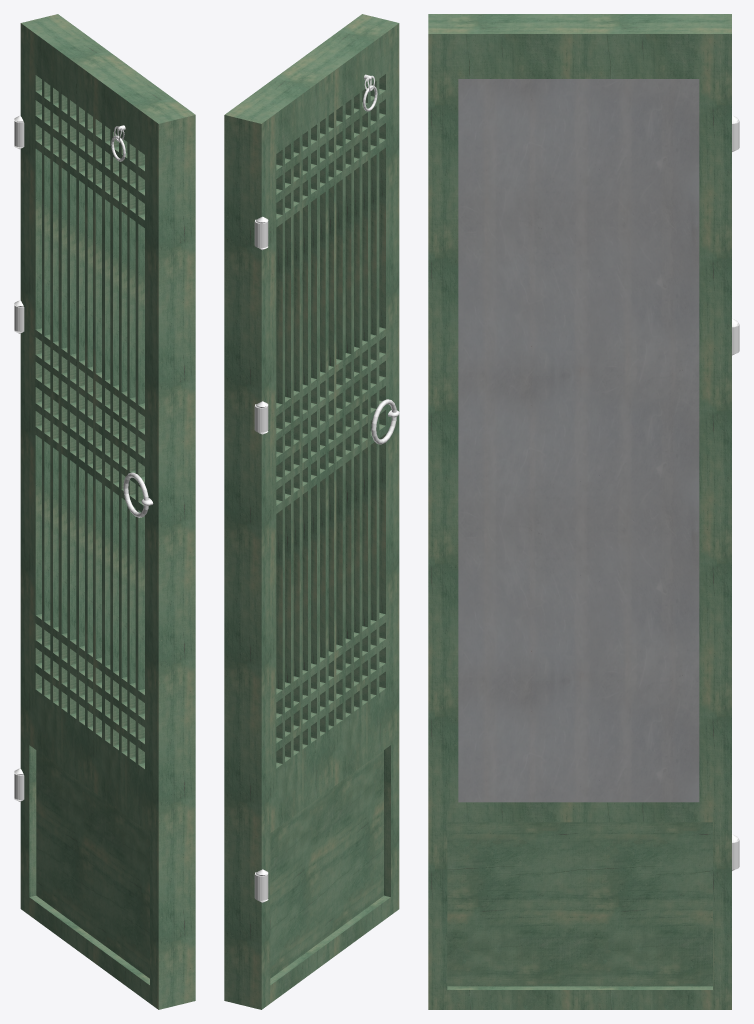
File: SM_D_Wood_3.fbx
3 views of the same model, side by side, from view 1: azimuth 30°, elevation 25°; view 2: azimuth 150°, elevation 25°; view 3: azimuth 270°, elevation 25° (orthographic). The views are drawn at different scales.
Visible parts, largest first — view 1: SM_D_Wood_3_LOD0; view 2: SM_D_Wood_3_LOD0; view 3: SM_D_Wood_3_LOD0.
Boxes of the visible parts, box(x1,y1,x2,y2) form: SM_D_Wood_3_LOD0: box(14, 14, 195, 1009); SM_D_Wood_3_LOD0: box(224, 14, 399, 1009); SM_D_Wood_3_LOD0: box(428, 14, 739, 1009).
Size of the model in its own units: 12.53 by 68.54 by 237.
3 materials, 3 textured.
